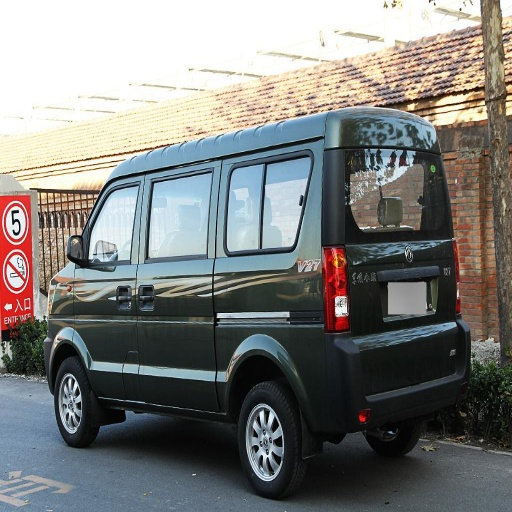back_bumper: (359, 317, 469, 421)
back_glass: (325, 123, 443, 235)
back_left_door: (139, 178, 209, 296)
back_left_light: (323, 248, 347, 330)
back_right_door: (78, 314, 130, 397)
trunk: (177, 241, 448, 428)
